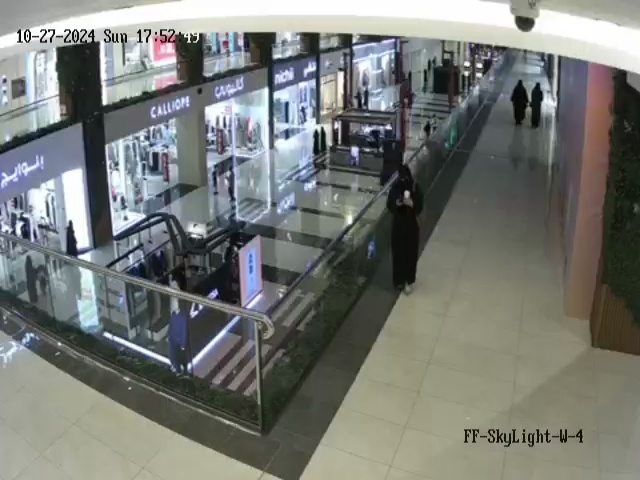female: (386, 164, 424, 295), (510, 80, 529, 126), (529, 82, 543, 128)
other: (164, 296, 199, 390)
